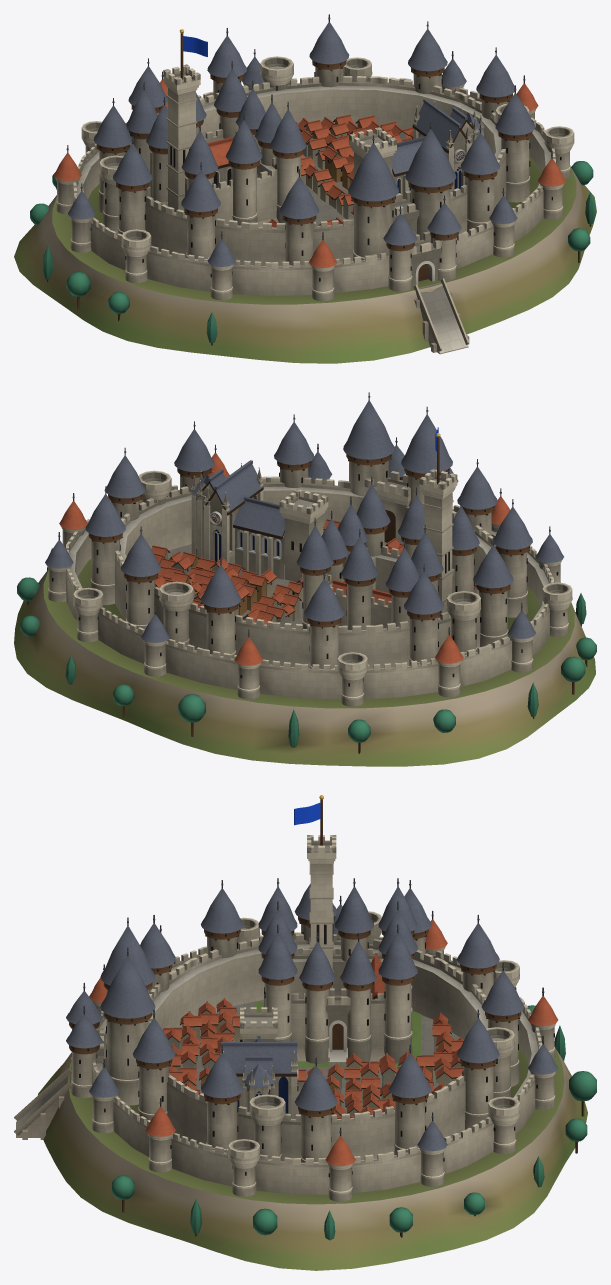
The model's file is lm_carcassonne.glb.
3 views of the same model, one above another, from view 1: azimuth 30°, elevation 25°; view 2: azimuth 150°, elevation 25°; view 3: azimuth 270°, elevation 25° (orthographic). The views are drawn at different scales.
Parts seen in each view (by area): view 1: lm_carcassonne; view 2: lm_carcassonne; view 3: lm_carcassonne.
Boxes of the visible parts, x1,y1,x2,y2 form: lm_carcassonne: [14, 14, 596, 363]; lm_carcassonne: [14, 392, 596, 766]; lm_carcassonne: [14, 795, 596, 1270].
Bounding box in the file's own units: 2.39 × 1.08 × 2.14.
Materials: 1 (1 with a texture image).
